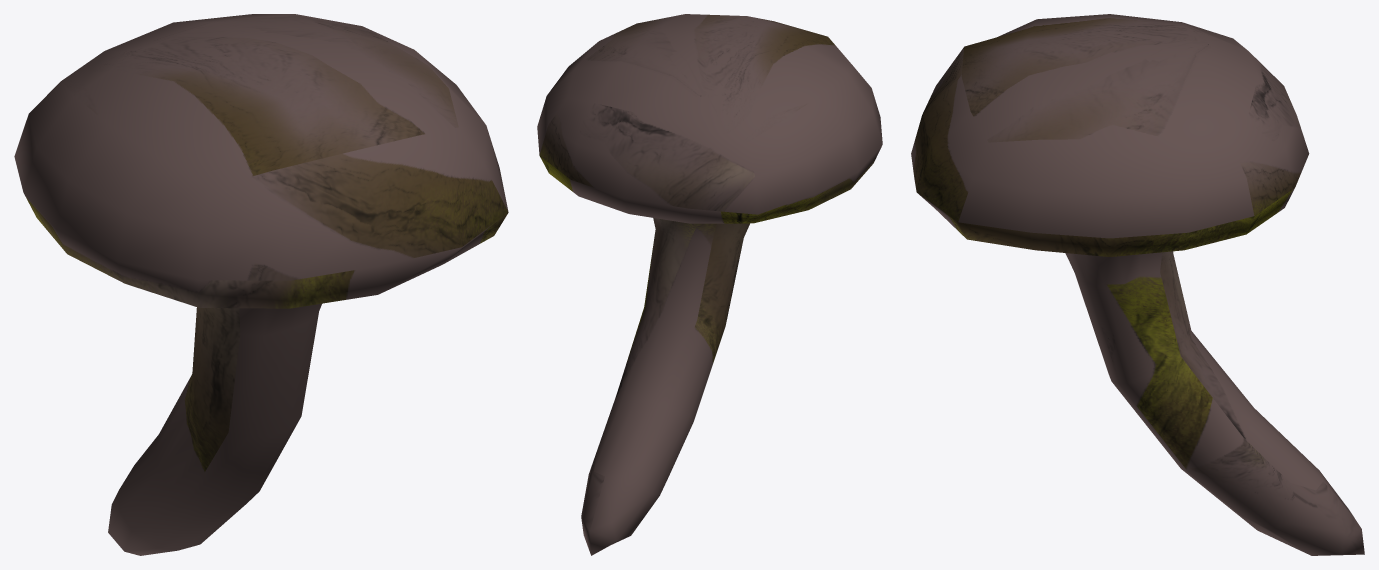
The model's file is md_mushroom_01_v4.fbx.
3 views of the same model, side by side, from view 1: azimuth 30°, elevation 25°; view 2: azimuth 150°, elevation 25°; view 3: azimuth 270°, elevation 25° (orthographic). The views are drawn at different scales.
Visible parts, largest first — view 1: pCube1; view 2: pCube1; view 3: pCube1.
Boxes of the visible parts, <box> form: pCube1: <box>14,14,508,555</box>; pCube1: <box>537,14,882,555</box>; pCube1: <box>911,14,1364,555</box>.
Size of the model in its own units: 26.91 by 37.83 by 30.59.
